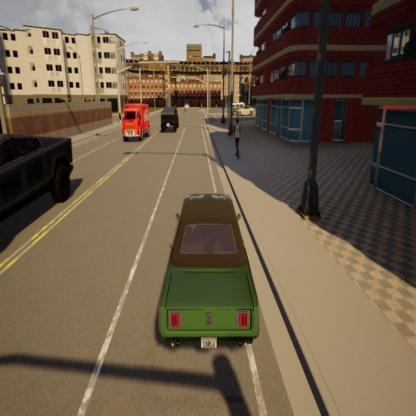Cars: (157, 192, 261, 352), (0, 133, 73, 224), (121, 105, 151, 141), (158, 109, 180, 131), (236, 102, 257, 119), (232, 98, 245, 113), (182, 103, 192, 112)
Pedestrian: (233, 116, 241, 157)
